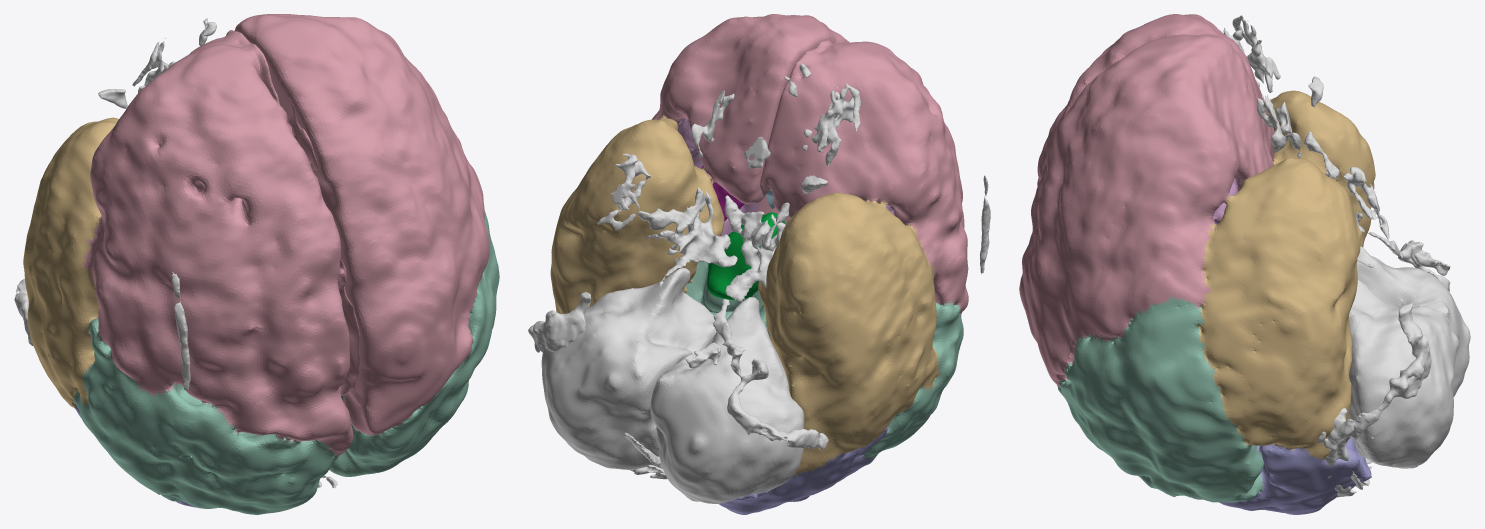
3 renders of one model, left to right at view 1: azimuth 30°, elevation 25°; view 2: azimuth 150°, elevation 25°; view 3: azimuth 270°, elevation 25°, orthographic. The views are drawn at different scales.
Parts seen in each view (by area): view 1: Left Cortex, Right Cortex, Veins; view 2: Left Cortex, Right Cortex, Right Cerebellar Cortex, Veins, Left Cerebellar Cortex, Right Thalamus; view 3: Right Cortex, Right Cerebellar Cortex, Veins, Left Cortex, Left Cerebellar Cortex.
Part boxes in pixels (x1=…): Left Cortex: x1=23, y1=30, x2=359, y2=514; Right Cortex: x1=234, y1=14, x2=499, y2=476; Veins: x1=14, y1=18, x2=337, y2=487; Left Cortex: x1=718, y1=40, x2=968, y2=514; Right Cortex: x1=550, y1=14, x2=849, y2=466; Right Cerebellar Cortex: x1=541, y1=268, x2=716, y2=469; Veins: x1=528, y1=63, x2=990, y2=479; Left Cerebellar Cortex: x1=650, y1=297, x2=804, y2=503; Right Thalamus: x1=707, y1=212, x2=785, y2=300; Right Cortex: x1=1019, y1=34, x2=1371, y2=514; Right Cerebellar Cortex: x1=1348, y1=279, x2=1458, y2=468; Veins: x1=1223, y1=15, x2=1450, y2=497; Left Cortex: x1=1037, y1=14, x2=1375, y2=247; Left Cerebellar Cortex: x1=1356, y1=246, x2=1470, y2=396.
Bounding box in the file's own units: 129 × 151 × 139.
